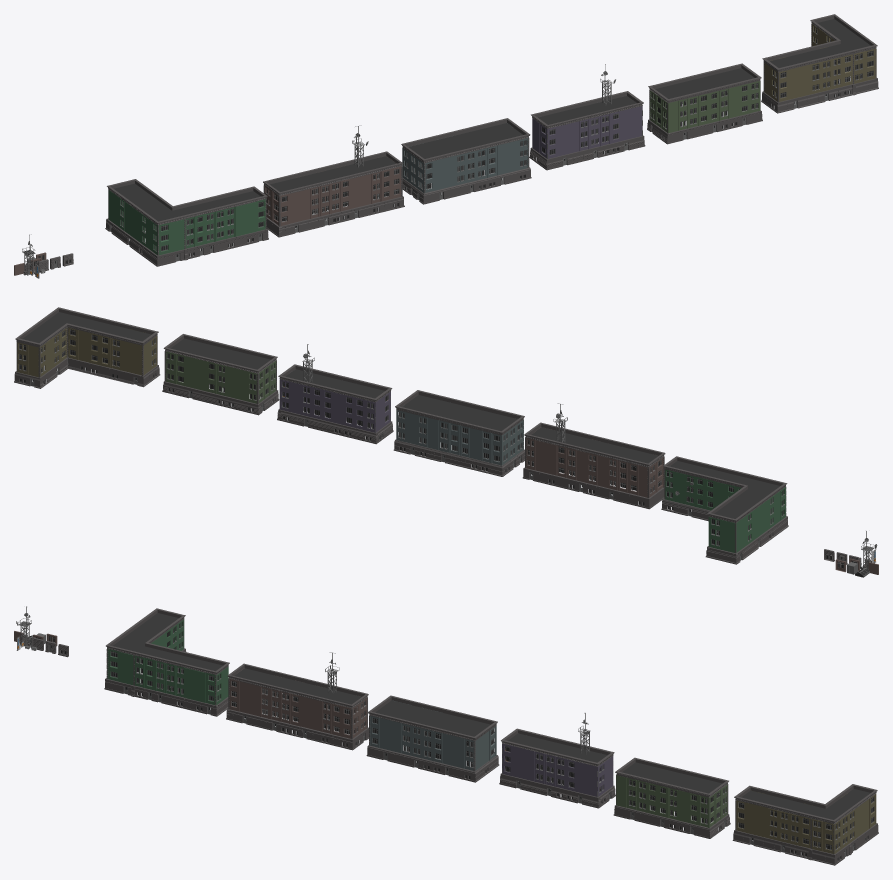
File: buildify_city_build_modelSmall_1.0.glb
3 views of the same model, one above another, from view 1: azimuth 30°, elevation 25°; view 2: azimuth 150°, elevation 25°; view 3: azimuth 330°, elevation 25° (orthographic).
Visible parts, largest first — view 1: Plane.006, Plane.007, Plane.008, Plane.011, Plane.010, Plane.009; view 2: Plane.006, Plane.011, Plane.007, Plane.008, Plane.010, Plane.009; view 3: Plane.006, Plane.011, Plane.007, Plane.008, Plane.010, Plane.009.
Boxes of the visible parts, x1,y1,x2,y2 form: Plane.006: (105,179,268,266); Plane.007: (263,125,404,237); Plane.008: (401,118,531,204); Plane.011: (761,14,878,113); Plane.010: (647,63,762,144); Plane.009: (529,64,645,170); Plane.006: (661,456,788,564); Plane.011: (14,307,160,388); Plane.007: (522,403,665,509); Plane.008: (393,390,524,476); Plane.010: (162,334,279,415); Plane.009: (277,344,393,444); Plane.006: (104,608,229,716); Plane.011: (732,784,878,865); Plane.007: (226,652,368,750); Plane.008: (366,695,499,782); Plane.010: (613,757,730,838); Plane.009: (499,713,615,808).
Bounding box in the file's own units: 264 × 24.08 × 29.62.
